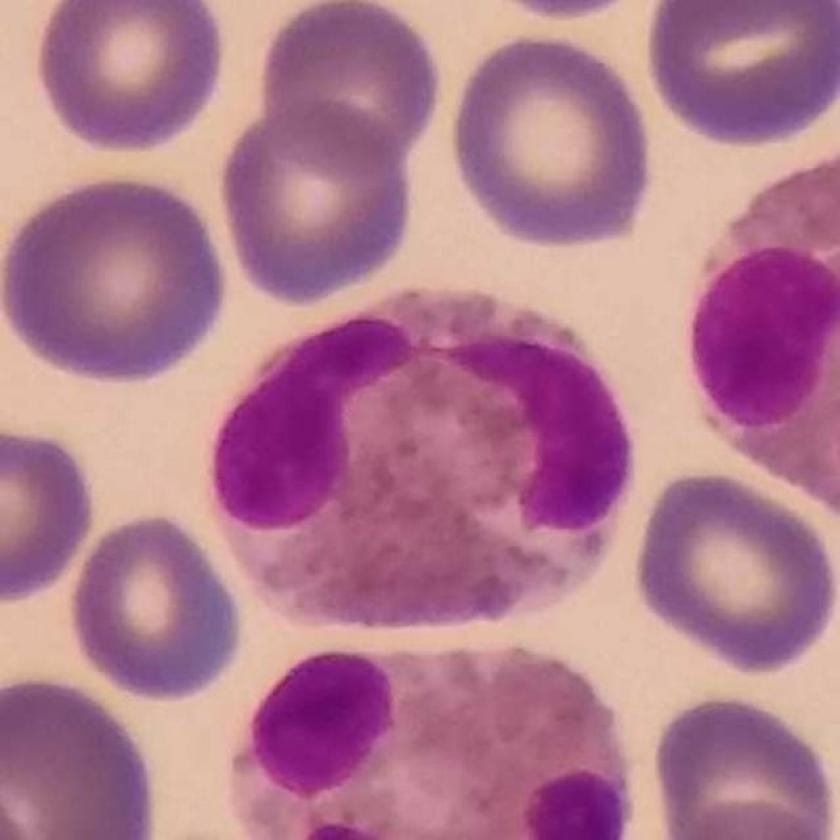eosinophil: (205, 282, 630, 622), (227, 652, 643, 840), (685, 147, 840, 522)
